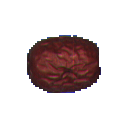gd: (15, 19, 120, 111)
